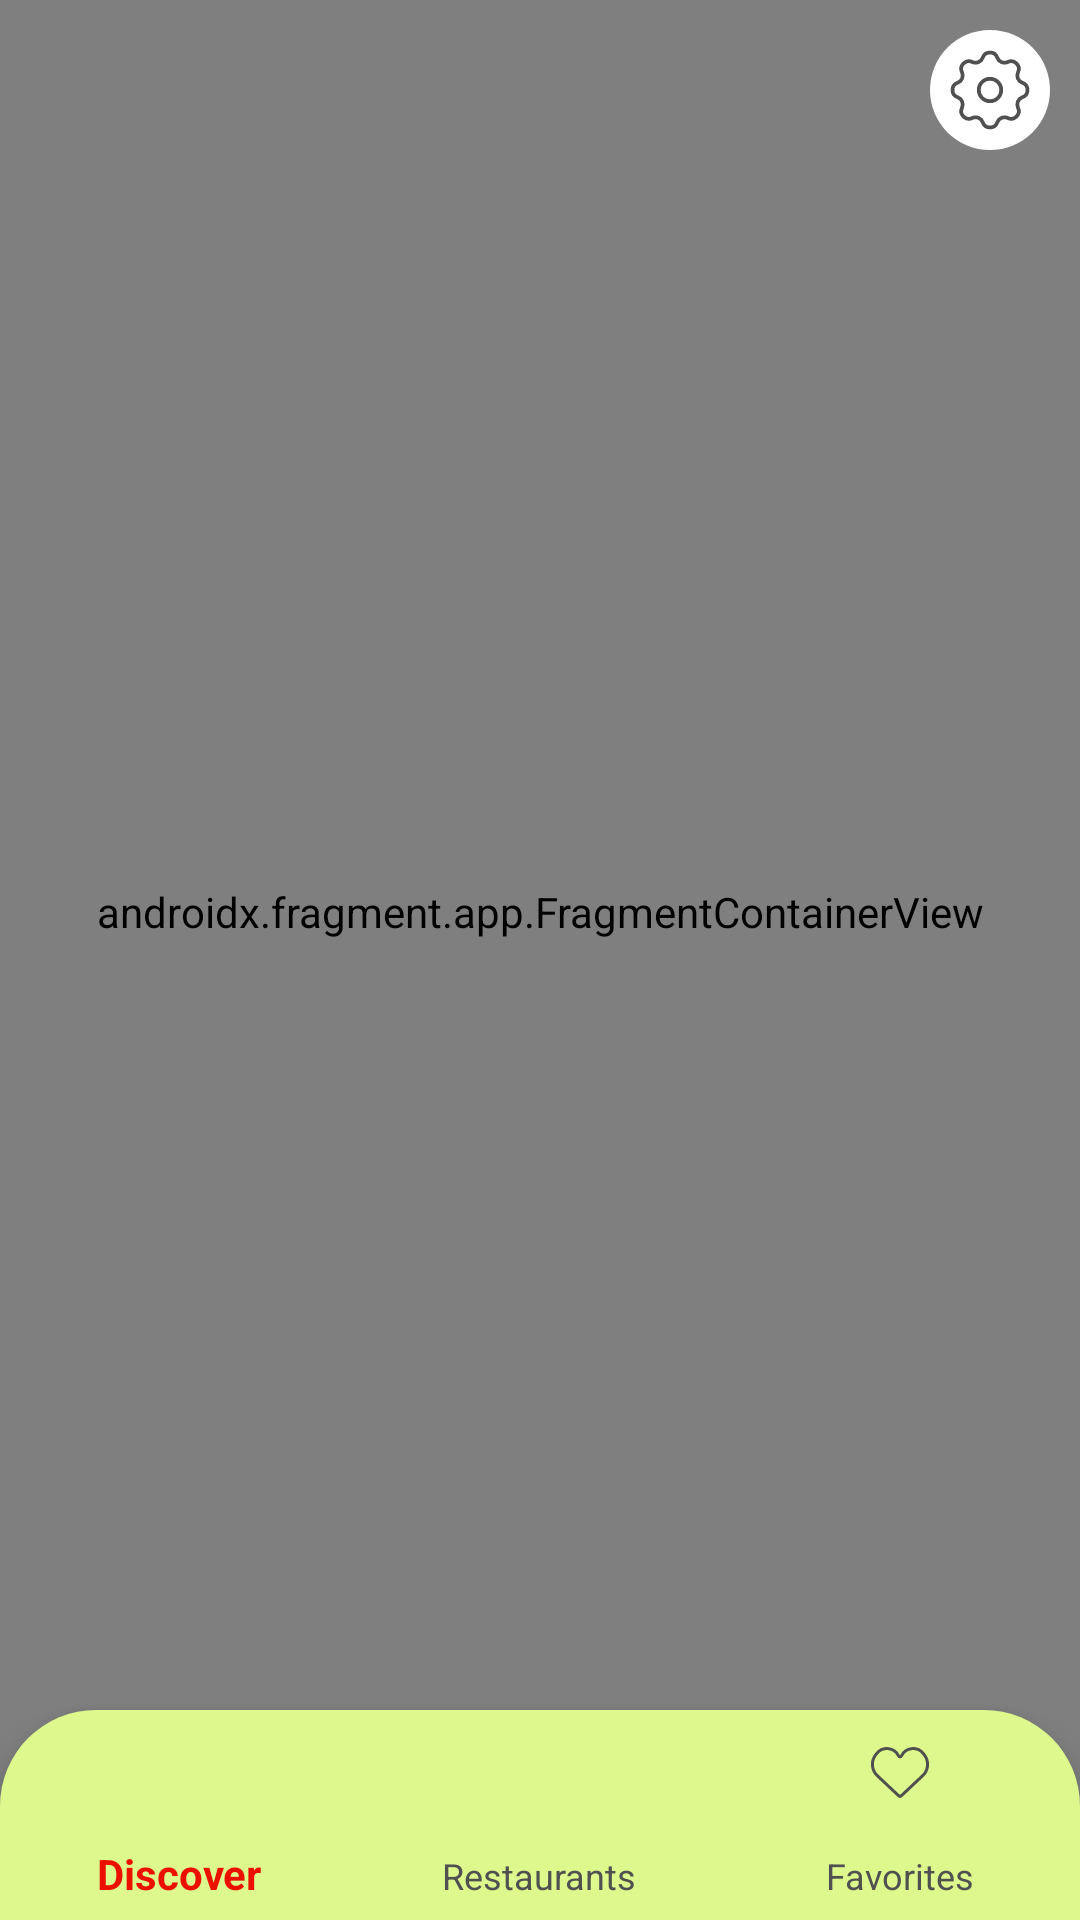

Named icons in this screenshot (1080x1920) and their bounding boxes, Rect(x1, y1, x2, y2):
settings: Rect(930, 30, 1050, 150)
